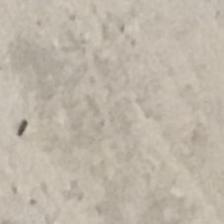Non_Crack: (26, 33, 203, 176)
